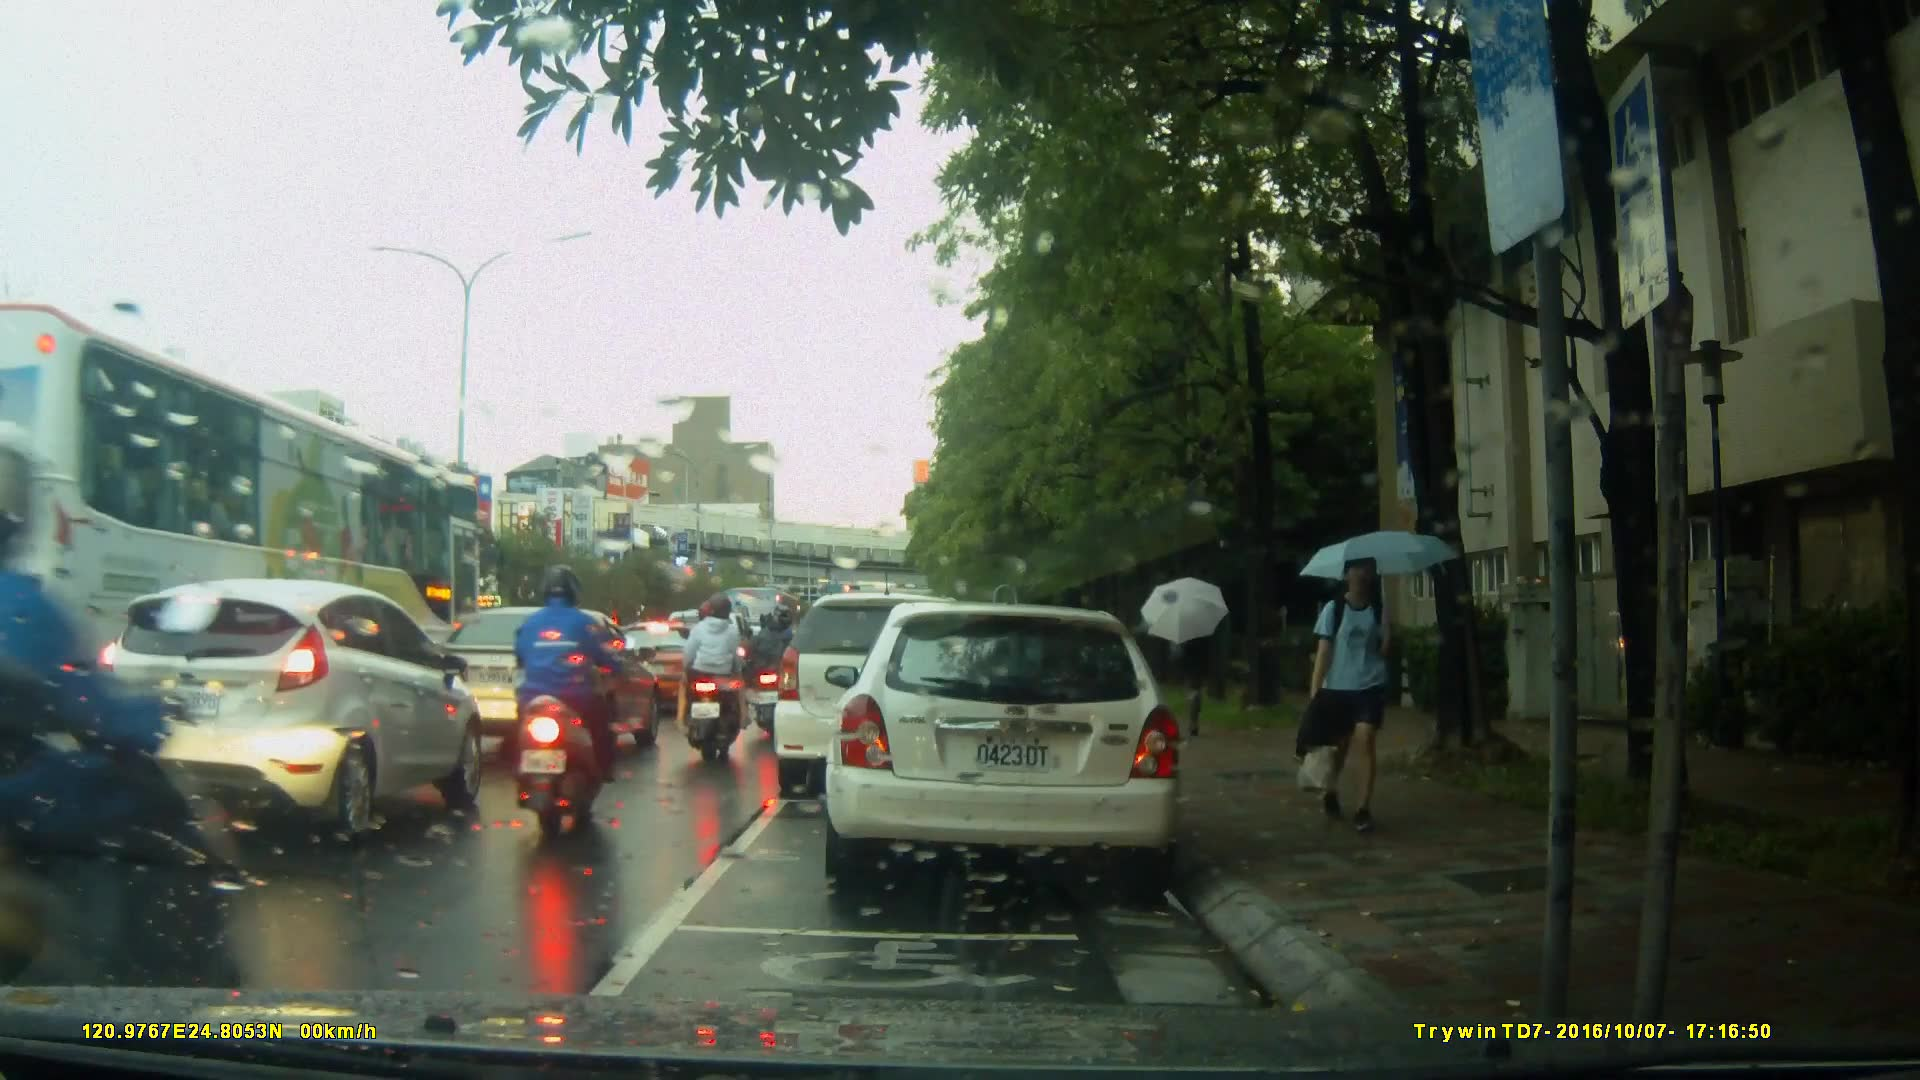pedestrian: (1293, 548, 1419, 829), (1169, 607, 1222, 737)
rider: (1, 437, 250, 1071), (520, 566, 622, 829), (684, 593, 757, 775), (750, 605, 790, 739)
vehicle: (2, 300, 498, 799), (835, 594, 1194, 898), (84, 575, 485, 846), (776, 590, 1026, 784), (404, 604, 654, 758), (607, 619, 729, 715)
